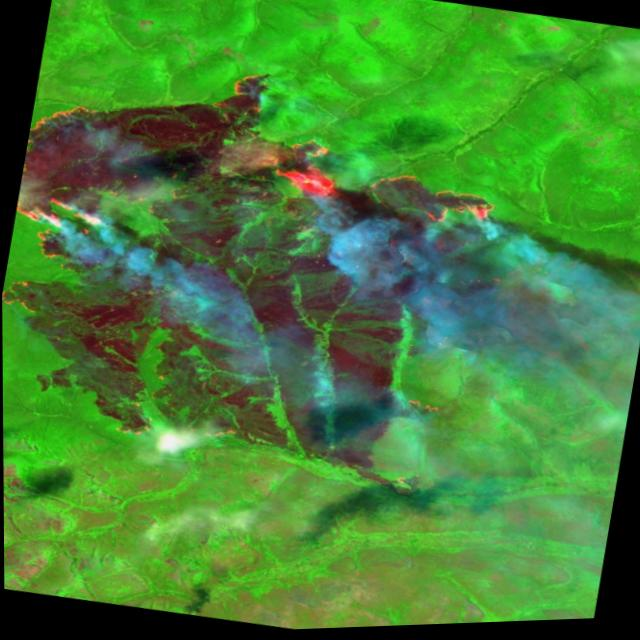fire: (0, 24, 520, 508)
